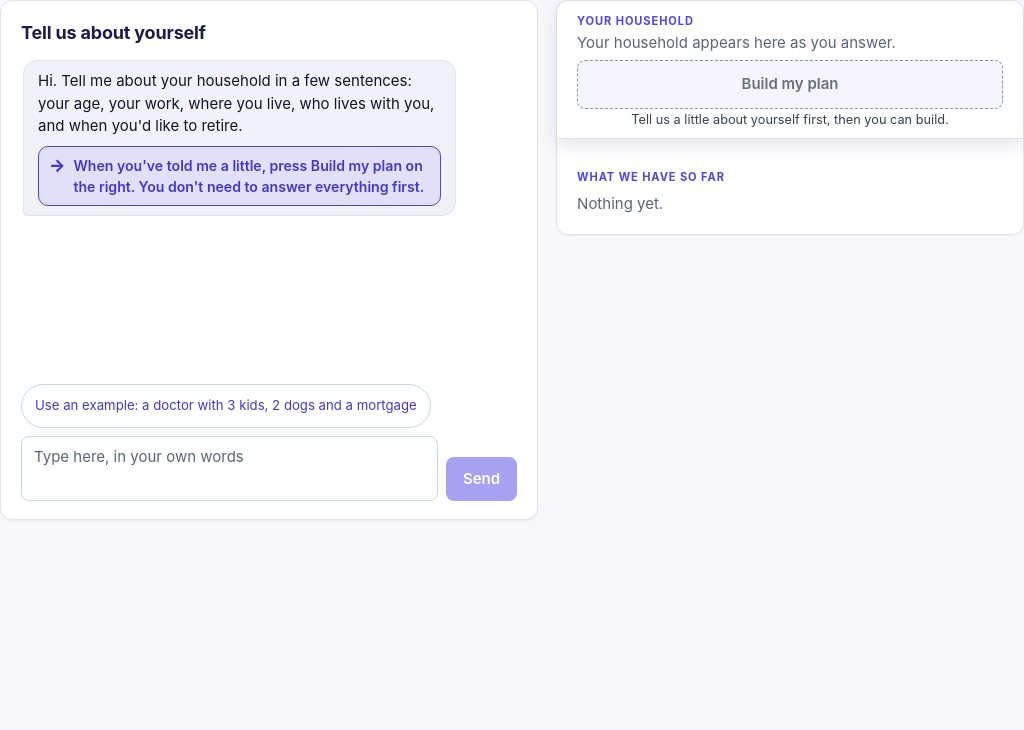
Test: quick answers › shows an error with Try again when the server fails, and keeps the chat
The image size is (1024, 730).
Click the button "Use an example: a doctor with 3 kids, 2 dogs and a mortgage" at (226, 406), box [21,384,431,428]
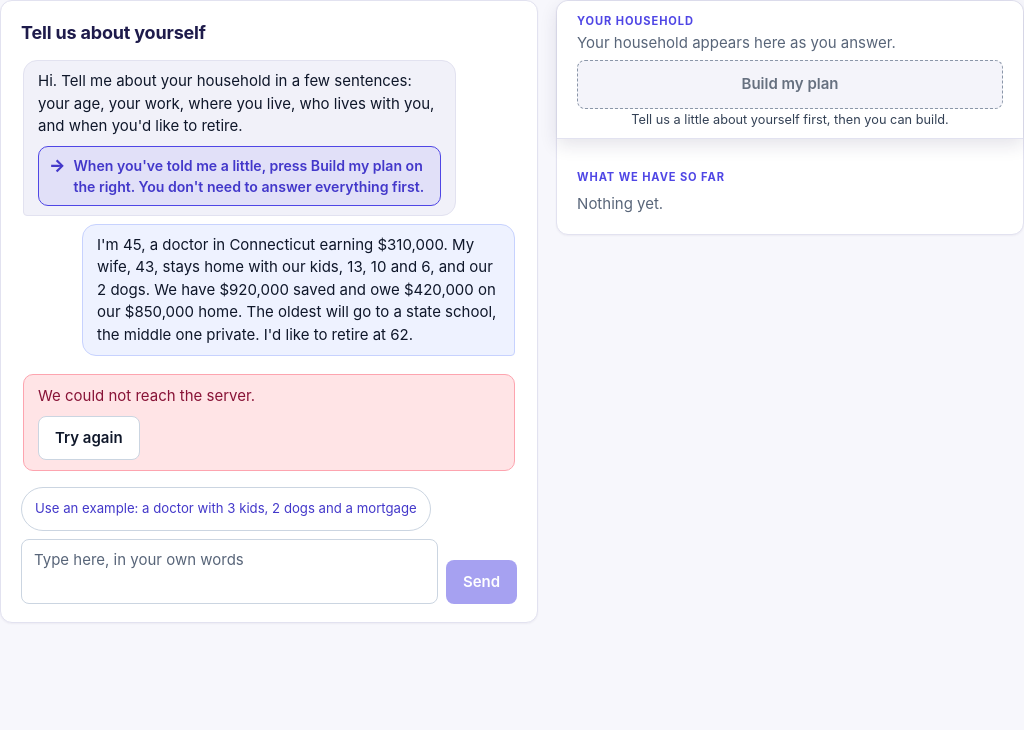
Result: the message "We could not reach the server. Try again" is shown at [23,374,515,471]
Click the button "Try again" at (89, 438), box [38,416,140,460]
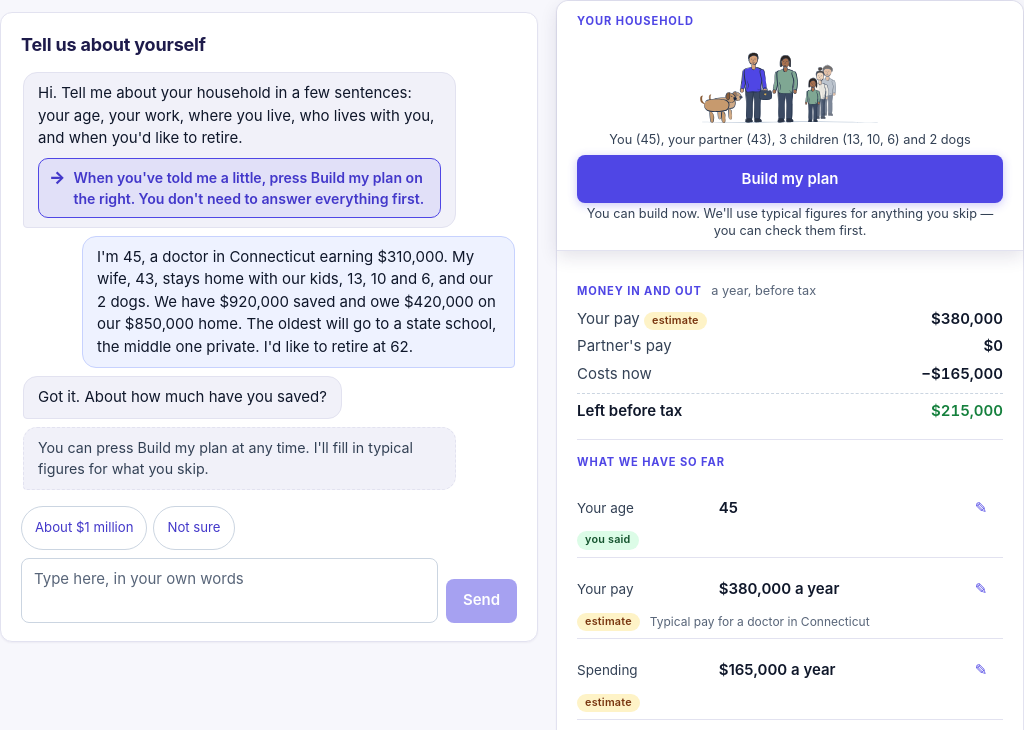
Result: the message "We could not reach the server. Try again" is gone
Result: the number of elements with class "bubble-you" is 1 at [82,236,515,368]
